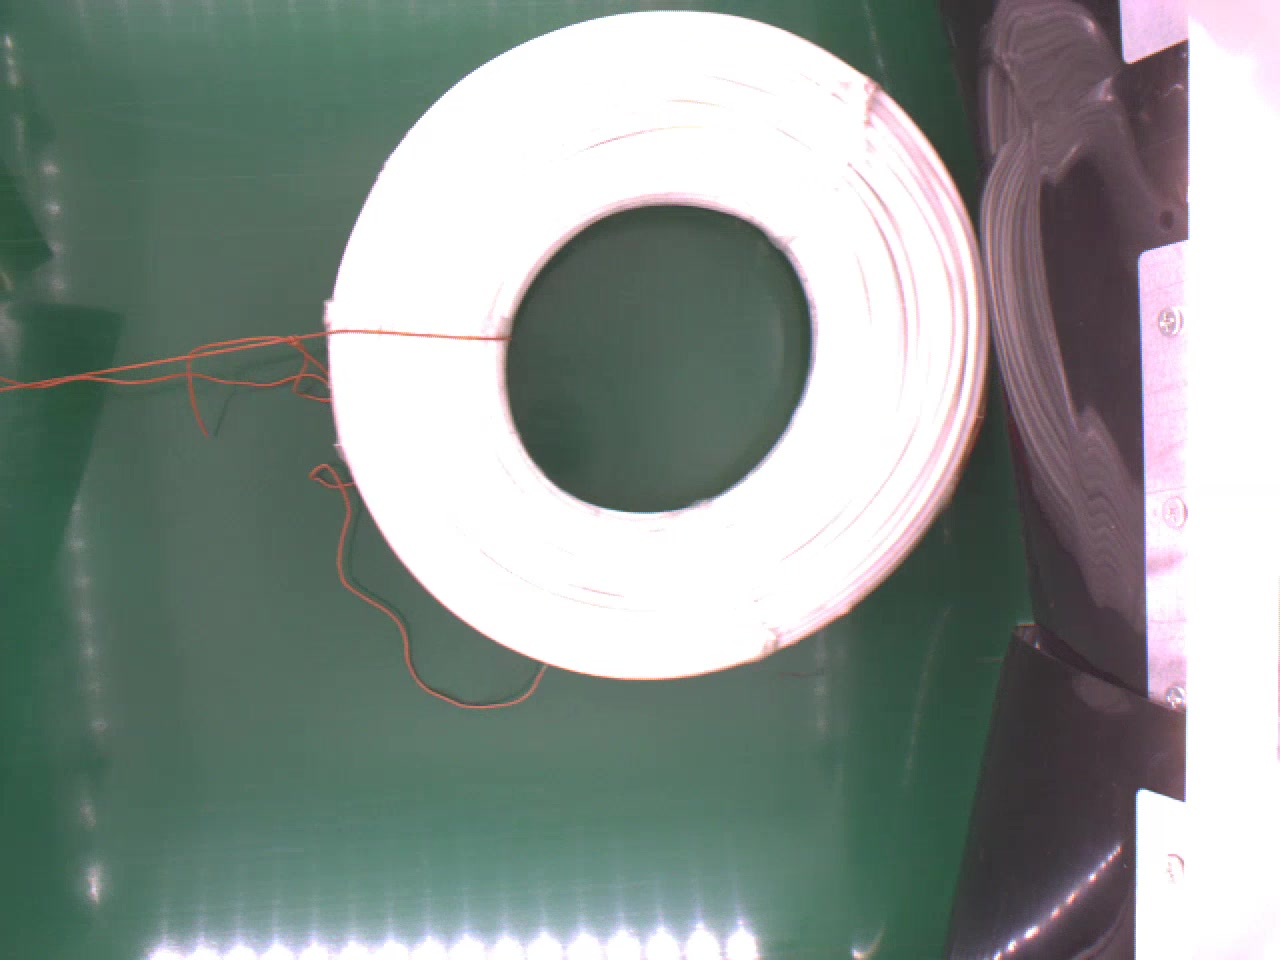white: (321, 4, 998, 675)
